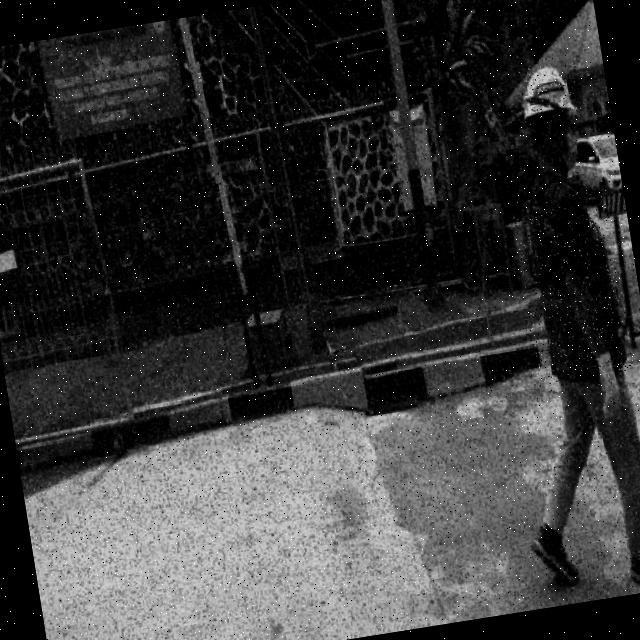boots: (526, 514, 582, 594), (623, 532, 640, 594)
helmet: (516, 61, 582, 127)
vest: (510, 186, 635, 386)
